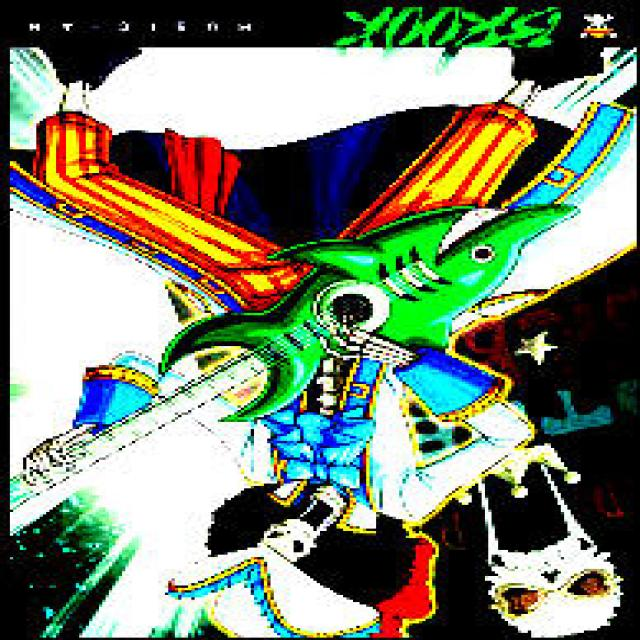Brook: (0, 48, 584, 638)
